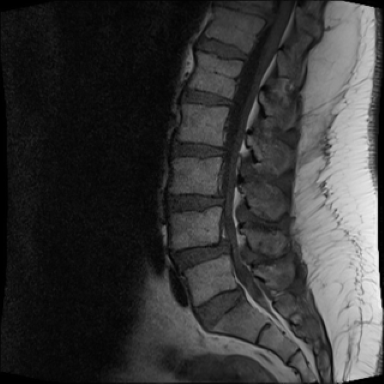Degenerative Disc Disease (DDD): (173, 79, 237, 113), (190, 31, 252, 65)
Lumbar Disc Bulge (LDB): (166, 226, 235, 276), (159, 183, 232, 219), (163, 130, 234, 164)
Normal IVD: (190, 277, 246, 336)
Spinal Stenosis (SS): (202, 179, 234, 218), (209, 228, 234, 270), (210, 128, 236, 168)
Spondylolisthesis: (160, 230, 250, 289)
Thoracic Disc Bulge (TDB): (204, 1, 276, 23)
